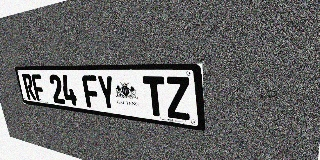2: (48, 74, 65, 104)
4: (60, 75, 78, 106)
F: (81, 75, 101, 109), (31, 74, 46, 102)
R: (22, 74, 37, 100)
T: (142, 76, 167, 117)
Y: (96, 75, 117, 111)
Z: (165, 76, 191, 121)
